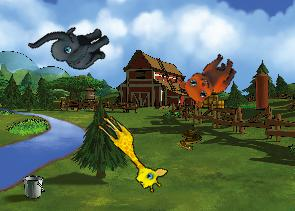bear: (174, 43, 241, 113)
elephant: (27, 3, 116, 89)
giraffe: (87, 111, 172, 196)
